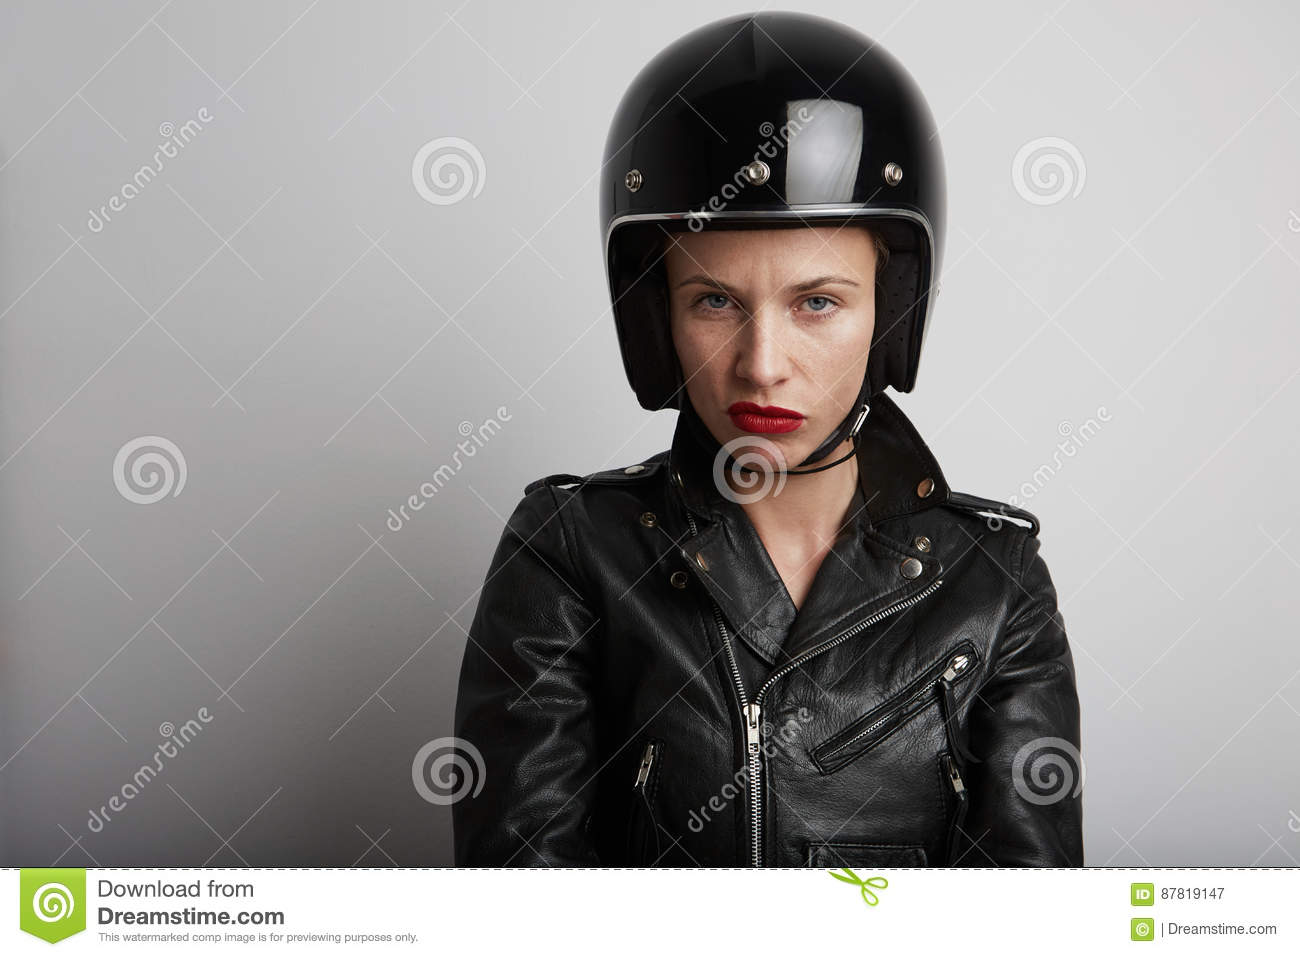helmet: (599, 23, 948, 374)
